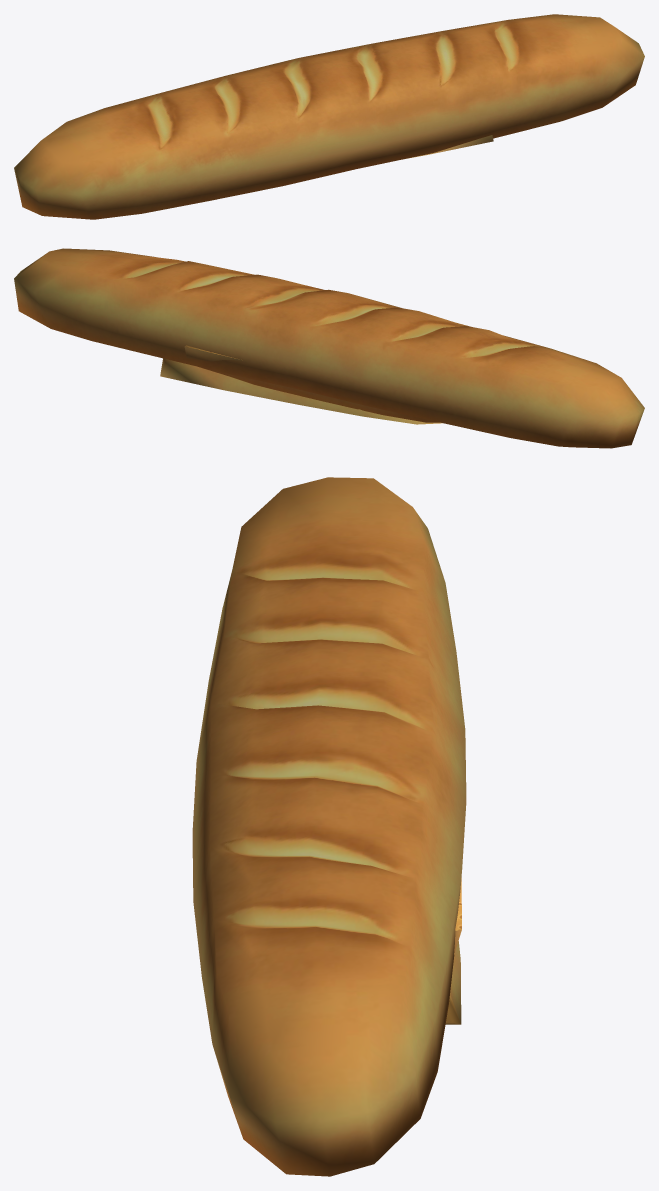
Rendered from ekmek.fbx.
3 views of the same model, one above another, from view 1: azimuth 30°, elevation 25°; view 2: azimuth 150°, elevation 25°; view 3: azimuth 270°, elevation 25° (orthographic). The views are drawn at different scales.
Visible parts, largest first — view 1: ekmek; view 2: ekmek, ekmek_ust, ekmek_alt; view 3: ekmek.
Boxes of the visible parts, x1=… form: ekmek: x1=14, y1=14, x2=644, y2=219; ekmek: x1=14, y1=248, x2=644, y2=448; ekmek_ust: x1=160, y1=358, x2=442, y2=424; ekmek_alt: x1=184, y1=345, x2=439, y2=422; ekmek: x1=192, y1=477, x2=466, y2=1176.
Size of the model in its own units: 131 by 17.99 by 25.17.
